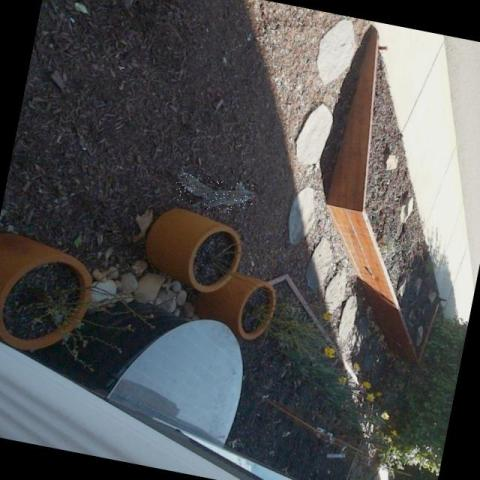small_animal: (177, 169, 254, 210)
